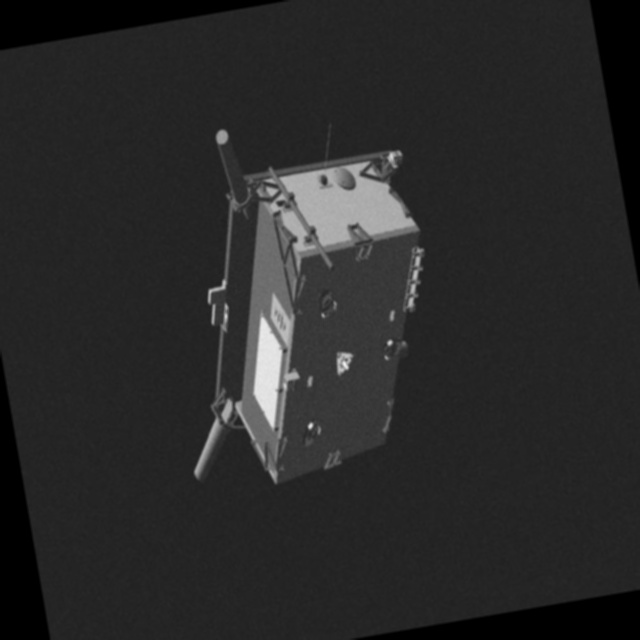medium_debris: (130, 101, 465, 501)
